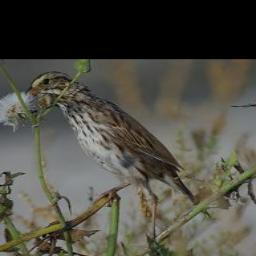Sparrow: (23, 70, 212, 218)
